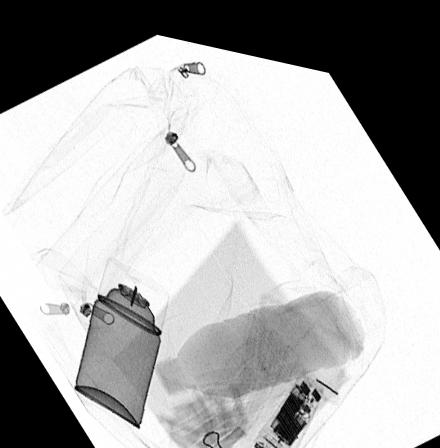Sprayer: (72, 248, 171, 420)
